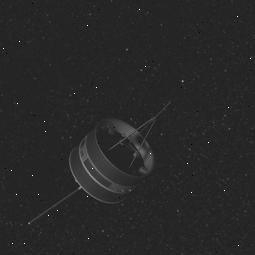double_start: (54, 108, 168, 216)
